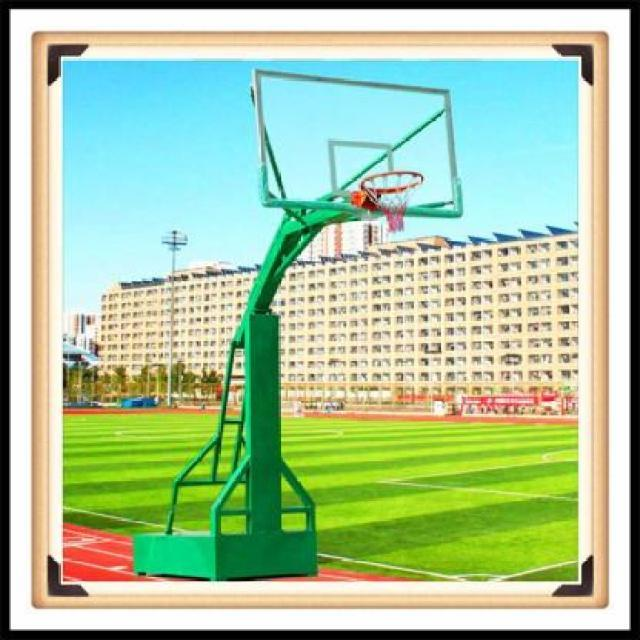rim: (363, 172, 425, 232)
